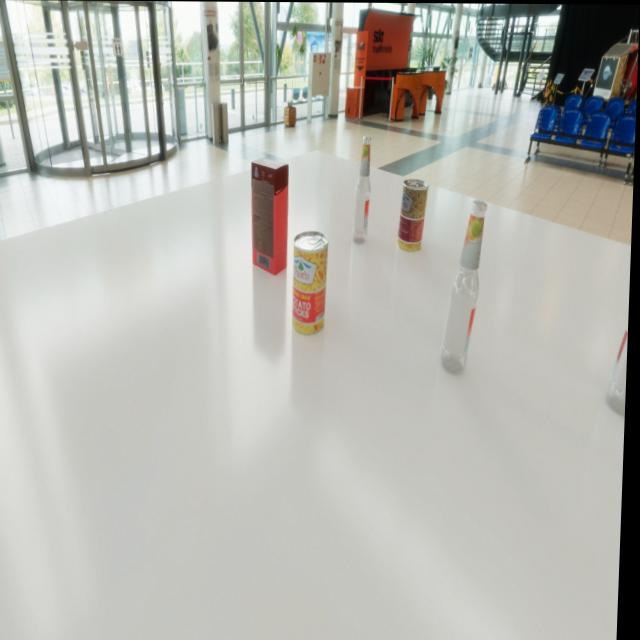Bottle: (442, 199, 489, 373), (353, 135, 374, 243)
HelloPanda: (249, 157, 292, 275)
Potato_sticks: (293, 230, 331, 335), (398, 178, 430, 252)
